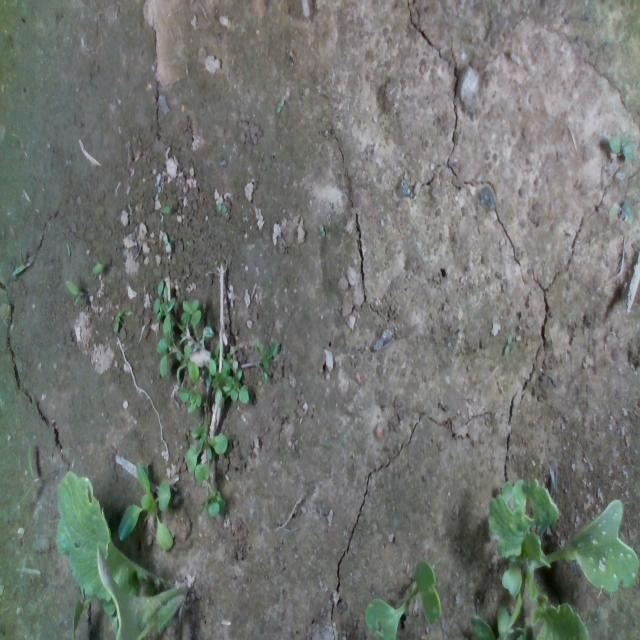weed: (608, 128, 634, 162), (64, 278, 84, 304), (90, 254, 108, 276), (112, 306, 124, 334), (502, 331, 512, 357), (214, 201, 227, 212), (276, 96, 284, 113), (65, 241, 71, 258), (319, 222, 325, 238)
